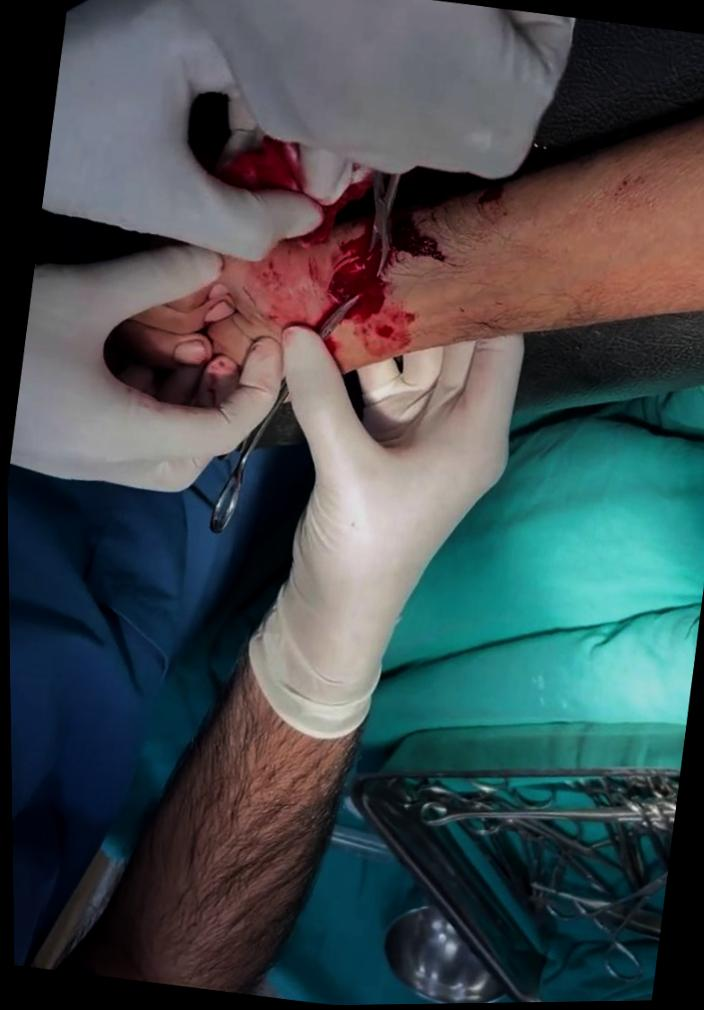Fire: (189, 91, 507, 369)
